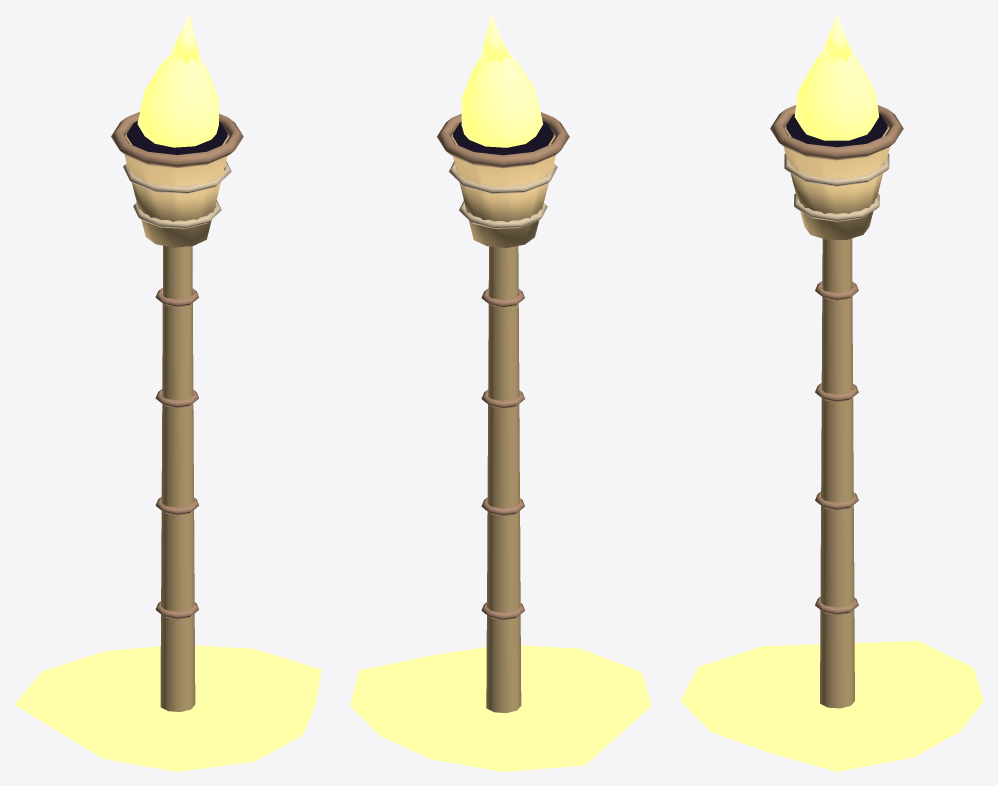
Rendered from tiki_torch.glb.
3 renders of one model, left to right at view 1: azimuth 30°, elevation 25°; view 2: azimuth 150°, elevation 25°; view 3: azimuth 270°, elevation 25°, orthographic.
Visible parts, largest first — view 1: Torch, Flame.001; view 2: Torch, Flame.001; view 3: Torch, Flame.001.
Part boxes in pixels (bbox=[...]): Torch: bbox=[14, 112, 321, 771]; Flame.001: bbox=[137, 14, 218, 147]; Torch: bbox=[350, 112, 651, 771]; Flame.001: bbox=[461, 14, 542, 147]; Torch: bbox=[680, 105, 983, 771]; Flame.001: bbox=[794, 14, 878, 140].
Size of the model in its own units: 0.858 by 2.12 by 0.84.
